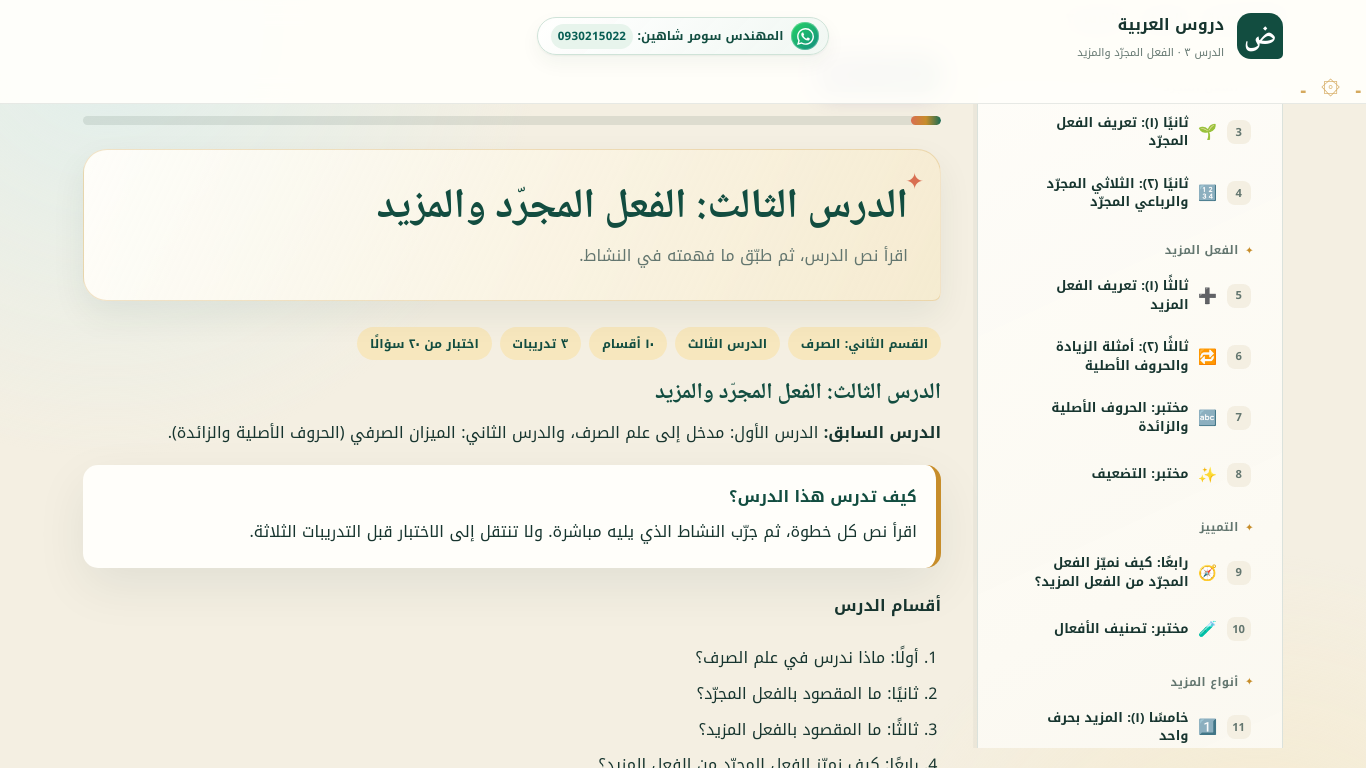
Test: Morphology Lesson 03 — Interactive Flow & Navigation › reveals the original/extra analysis and its reason only after checking
(page scrolled)
Click the button "7 🔤 مختبر: الحروف الأصلية والزائدة": (1130, 418) x1=998 y1=390 x2=1262 y2=446
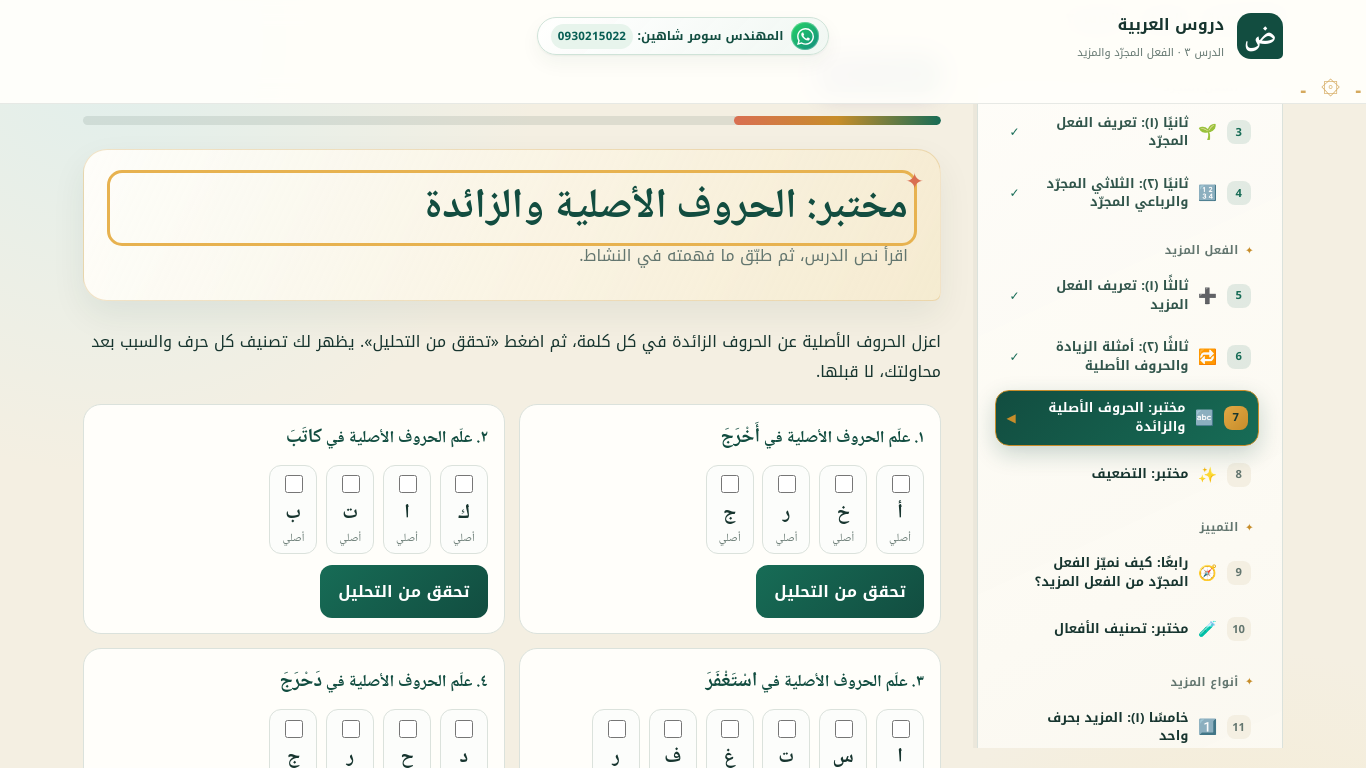
Click the button "تحقق من التحليل" below "أَخْرَجَ": (840, 592) x1=756 y1=565 x2=924 y2=618
(page scrolled)
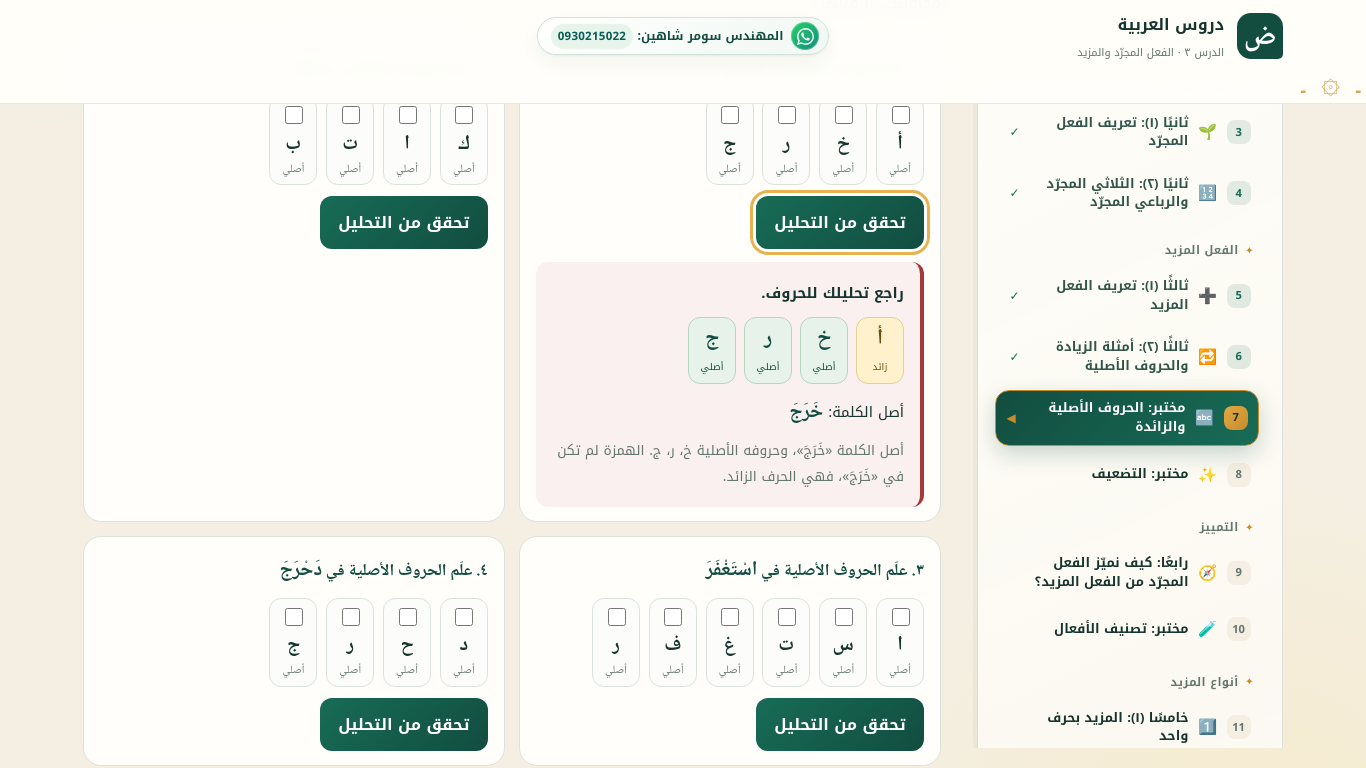
Check: the message is shown, box x1=536 y1=262 x2=924 y2=506
Check: the message shows "أصل الكلمة", box x1=823 y1=398 x2=904 y2=426
